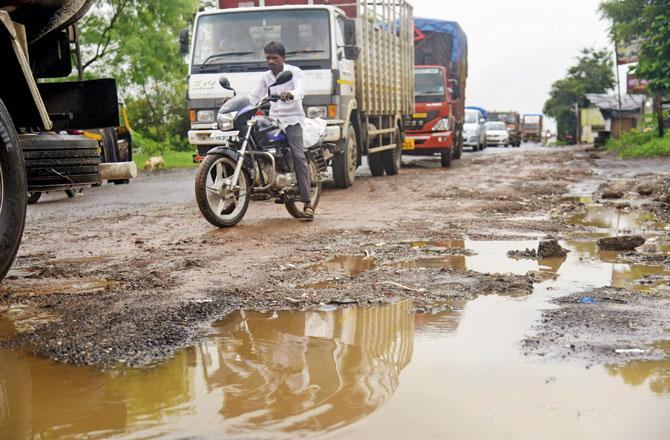pothole: (7, 281, 650, 439)
